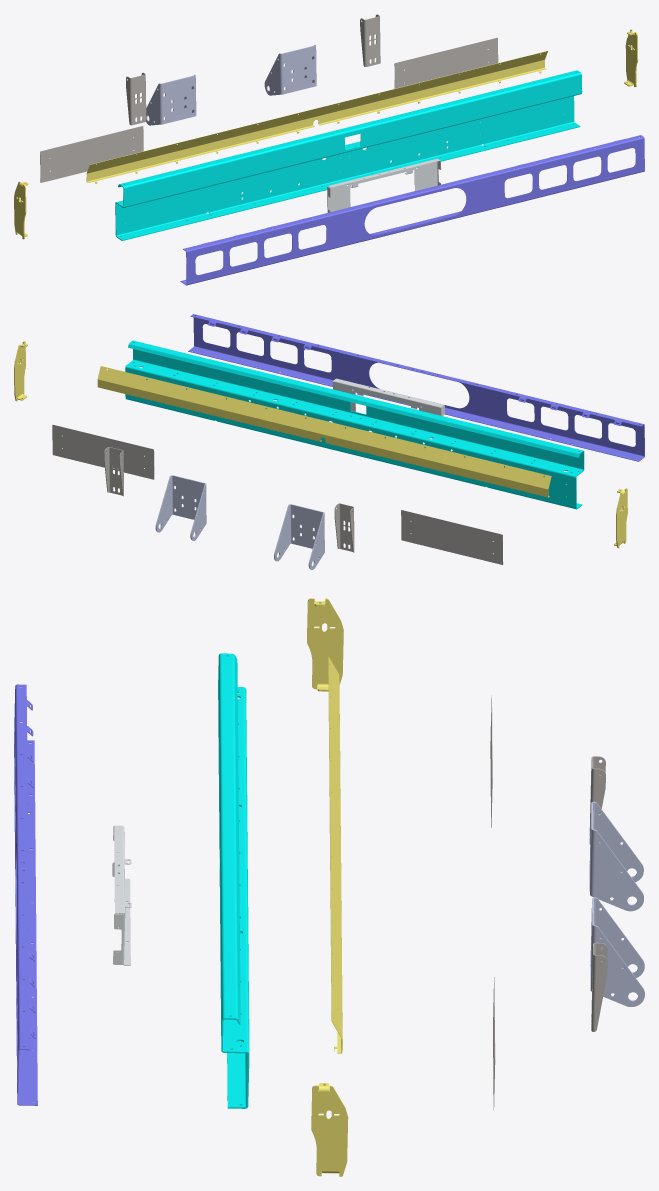
Rendered from 2270 LIGHT BOARD BOLT TOGETHER.glb.
3 renders of one model, top to bottom at view 1: azimuth 30°, elevation 25°; view 2: azimuth 150°, elevation 25°; view 3: azimuth 270°, elevation 25°, orthographic. The views are drawn at different scales.
Parts seen in each view (by area): view 1: STF074_closed, STF009-227-AL-V4, STF070, STE780-REVB CLOSED LIGHT BOARD SS REAR COVER, STE780-REVB CLOSED LIGHT BOARD SS REAR COVER001, STE020F-2023, STE020F-2022, STF076 NUMBER PLATE BRACKET, STE502, STE503, STF069-NS-V4, STF069-OS-V3; view 2: STF074_closed, STF009-227-AL-V4, STF070, STE780-REVB CLOSED LIGHT BOARD SS REAR COVER, STE780-REVB CLOSED LIGHT BOARD SS REAR COVER001, STE020F-2023, STE020F-2022, STF076 NUMBER PLATE BRACKET, STE503, STE502, STF069-OS-V3, STF069-NS-V4; view 3: STF074_closed, STF009-227-AL-V4, STF070, STE020F-2022, STE020F-2023, STF069-OS-V3, STF069-NS-V4, STF076 NUMBER PLATE BRACKET, STE502.
Boxes of the visible parts, left/top/right/bottom form: STF074_closed: left=115, top=70, right=582, bottom=240; STF009-227-AL-V4: left=180, top=135, right=644, bottom=285; STF070: left=86, top=51, right=547, bottom=183; STE780-REVB CLOSED LIGHT BOARD SS REAR COVER: left=40, top=126, right=143, bottom=182; STE780-REVB CLOSED LIGHT BOARD SS REAR COVER001: left=394, top=37, right=498, bottom=88; STE020F-2023: left=264, top=44, right=316, bottom=95; STE020F-2022: left=146, top=74, right=196, bottom=125; STF076 NUMBER PLATE BRACKET: left=327, top=158, right=441, bottom=212; STE502: left=360, top=14, right=380, bottom=66; STE503: left=126, top=72, right=146, bottom=125; STF069-NS-V4: left=14, top=181, right=28, bottom=239; STF069-OS-V3: left=624, top=29, right=638, bottom=86; STF074_closed: left=125, top=340, right=584, bottom=509; STF009-227-AL-V4: left=188, top=314, right=644, bottom=461; STF070: left=97, top=366, right=551, bottom=497; STE780-REVB CLOSED LIGHT BOARD SS REAR COVER: left=401, top=510, right=503, bottom=564; STE780-REVB CLOSED LIGHT BOARD SS REAR COVER001: left=52, top=424, right=154, bottom=479; STE020F-2023: left=155, top=475, right=206, bottom=540; STE020F-2022: left=274, top=504, right=324, bottom=569; STF076 NUMBER PLATE BRACKET: left=333, top=378, right=444, bottom=438; STE503: left=334, top=503, right=354, bottom=552; STE502: left=104, top=447, right=123, bottom=496; STF069-OS-V3: left=14, top=341, right=27, bottom=401; STF069-NS-V4: left=614, top=488, right=627, bottom=548; STF074_closed: left=218, top=653, right=249, bottom=1108; STF009-227-AL-V4: left=14, top=684, right=37, bottom=1105; STF070: left=328, top=656, right=342, bottom=1053; STE020F-2022: left=589, top=801, right=643, bottom=911; STE020F-2023: left=590, top=897, right=644, bottom=1006; STF069-OS-V3: left=311, top=1083, right=348, bottom=1176; STF069-NS-V4: left=307, top=598, right=343, bottom=691; STF076 NUMBER PLATE BRACKET: left=112, top=825, right=131, bottom=965; STE502: left=591, top=942, right=607, bottom=1031.
Size of the model in its own units: 3.04 by 0.3196 by 1.65.
